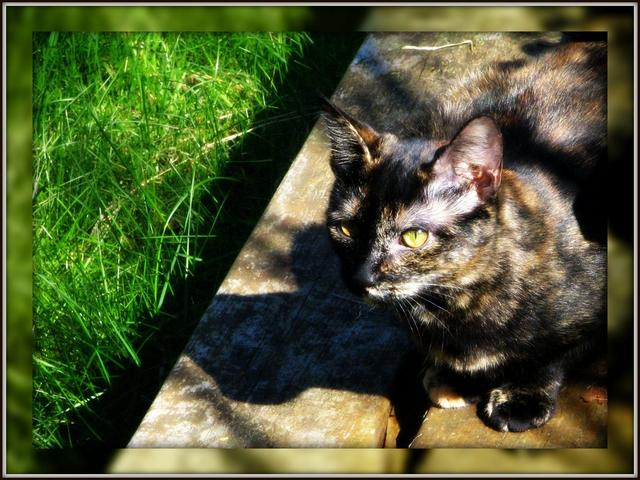cat: (268, 72, 606, 440)
